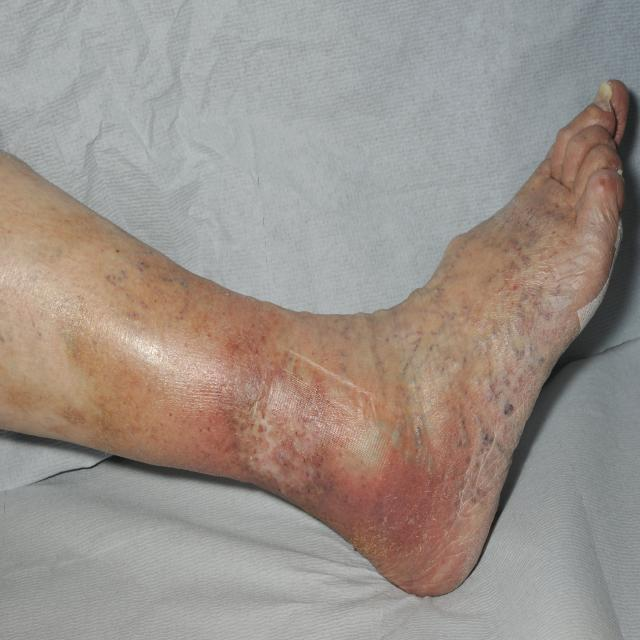wound: (236, 360, 497, 537)
